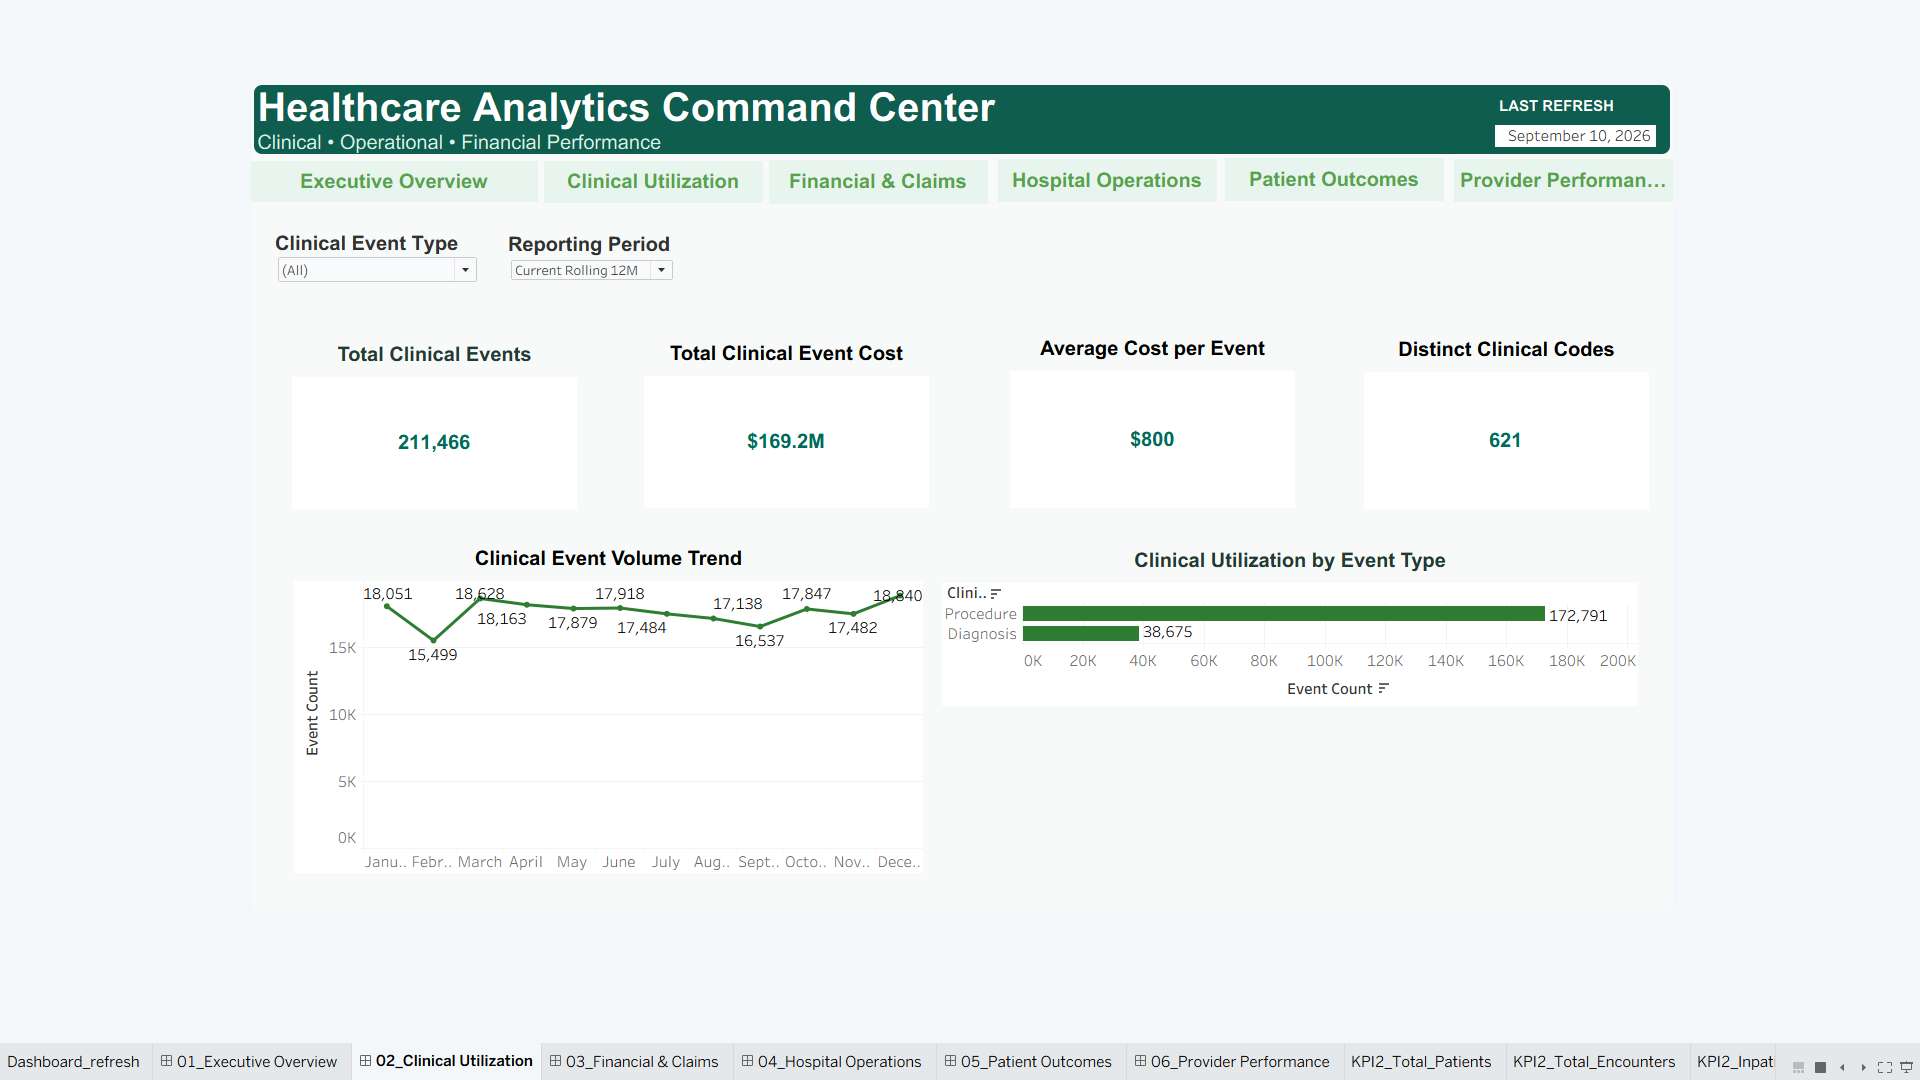

Layout of this report page (visuals, bound fields, positions):
{"tool":"tableau","page":{"name":"02_Clinical Utilization","canvas":[1440,900],"ordinal":1},"visuals":[{"type":"text","box":[10,10,1424,77]},{"type":"dashboard-object","box":[985,87,219,43]},{"type":"dashboard-object","box":[758,88,219,43]},{"type":"dashboard-object","box":[1214,88,219,43]},{"type":"dashboard-object","box":[529,89,219,44]},{"type":"dashboard-object","box":[11,90,287,41]},{"type":"dashboard-object","box":[304,90,219,42]},{"type":"filter","title":"CLU_KPI_Total_Events","param":"[federated.0xo0tb00reh3zl1h7kf2017fxwg9].[none:clinical_event_type:nk]","box":[35,161,205,52]},{"type":"parameter","param":"[Parameters].[Parameter 0280968702808064]","box":[268,162,168,56]},{"type":"worksheet","title":"CLU_KPI_Avg_Event_Cost","mark":"Automatic","box":[770,262,285,175]},{"type":"worksheet","title":"CLU_KPI_Clinical_Codes","mark":"Automatic","box":[1124,263,285,175]},{"type":"worksheet","title":"CLU_KPI_Event_Cost","mark":"Automatic","box":[404,267,285,170]},{"type":"worksheet","title":"CLU_KPI_Total_Events","mark":"Automatic","box":[52,268,285,170]},{"type":"worksheet","title":"CLU_CHT_Monthly_Event_Trend","mark":"Line","rows":["event_count"],"cols":["month_start"],"box":[54,472,629,330]},{"type":"worksheet","title":"CLU_CHT_Event_Type_Ranking","mark":"Automatic","rows":["clinical_event_type"],"cols":["event_count"],"box":[702,474,696,308]}]}

Visuals, with their boxes on the page's 1440x900 design canvas (x1, y1, x2, y2). These are canvas units, not pixel positions in the 1920x1080 screenshot, which may show the page scaled, cropped or inside an application window:
text: 10,10,1434,87
dashboard-object: 985,87,1204,130
dashboard-object: 758,88,977,131
dashboard-object: 1214,88,1433,131
dashboard-object: 529,89,748,133
dashboard-object: 11,90,298,131
dashboard-object: 304,90,523,132
"CLU_KPI_Total_Events" filter: 35,161,240,213
parameter: 268,162,436,218
"CLU_KPI_Avg_Event_Cost" worksheet: 770,262,1055,437
"CLU_KPI_Clinical_Codes" worksheet: 1124,263,1409,438
"CLU_KPI_Event_Cost" worksheet: 404,267,689,437
"CLU_KPI_Total_Events" worksheet: 52,268,337,438
"CLU_CHT_Monthly_Event_Trend" worksheet (Line marks): 54,472,683,802
"CLU_CHT_Event_Type_Ranking" worksheet: 702,474,1398,782
